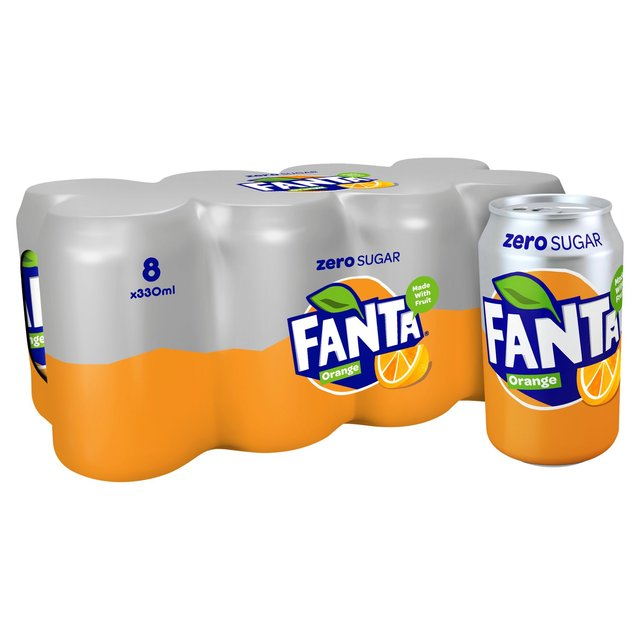Fanta: (471, 192, 626, 472)
